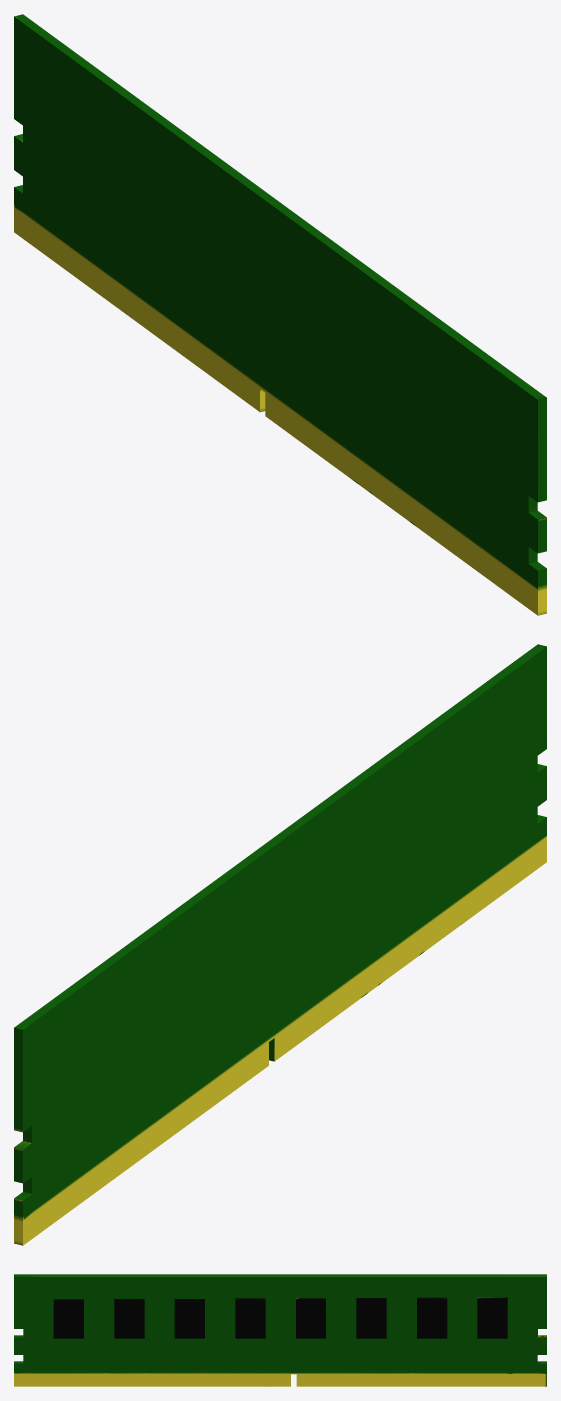
File: ram.fbx
The picture shows the model from 3 angles, top to bottom: view 1: azimuth 30°, elevation 25°; view 2: azimuth 150°, elevation 25°; view 3: azimuth 270°, elevation 25°; orthographic projection. The views are drawn at different scales.
Parts seen in each view (by area): view 1: Cube.003; view 2: Cube.003; view 3: Cube.003.
Part boxes in pixels (x1,y1,x2,y2): Cube.003: (14, 14, 546, 615); Cube.003: (14, 644, 546, 1245); Cube.003: (14, 1274, 546, 1386).
Size of the model in its own units: 9.52 by 142 by 623.
